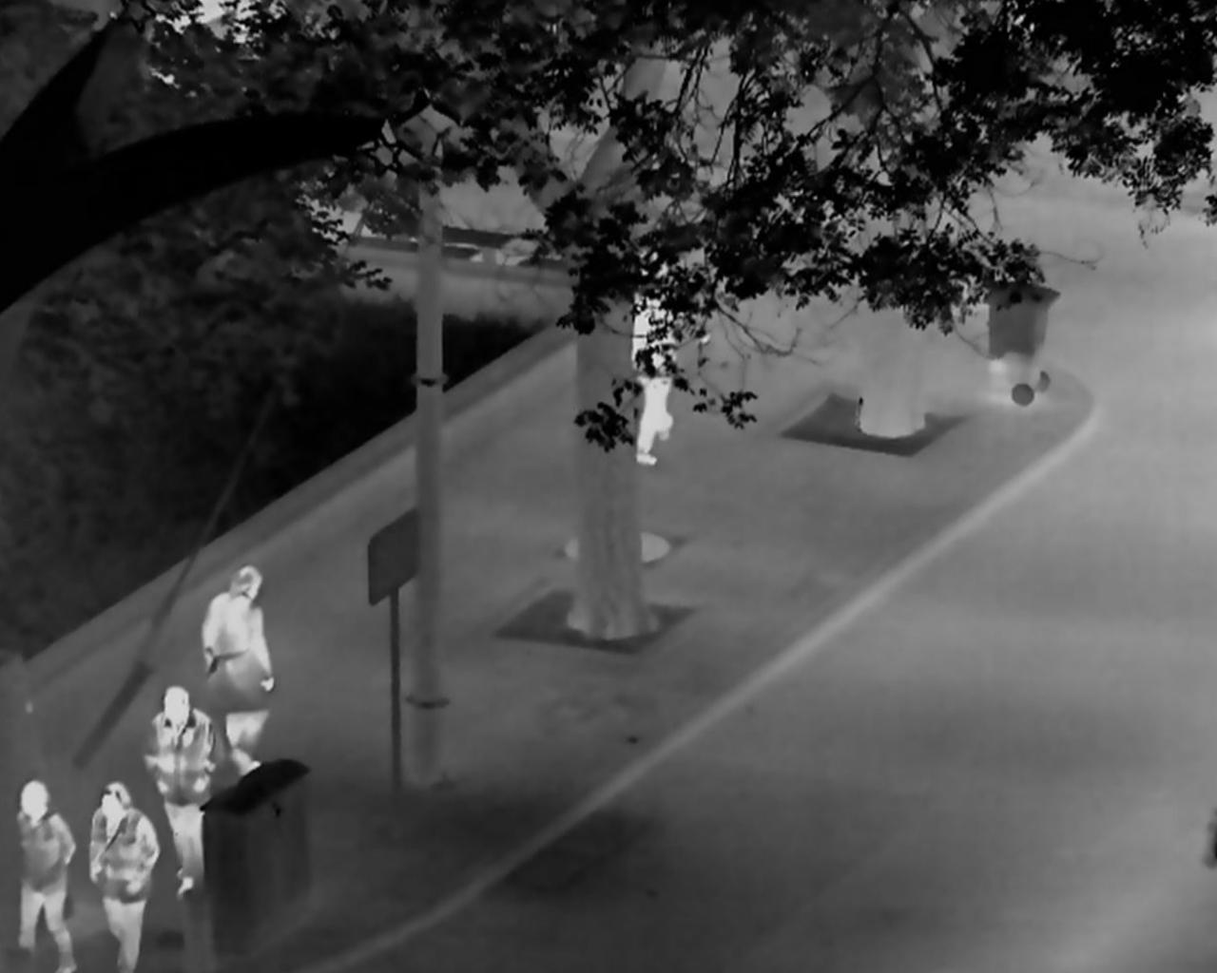person: (142, 687, 224, 900), (200, 563, 279, 777), (87, 779, 163, 973), (14, 778, 80, 973), (631, 248, 686, 466)
